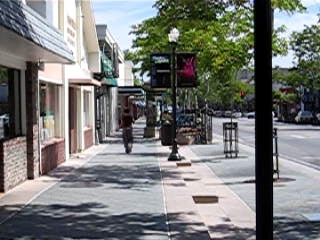person: (121, 107, 136, 154), (120, 107, 135, 154), (122, 107, 137, 154), (121, 106, 136, 153), (121, 108, 136, 155)
target_negative: (44, 167, 309, 185), (246, 122, 281, 214), (226, 187, 320, 208), (226, 138, 246, 172), (288, 211, 293, 231)
